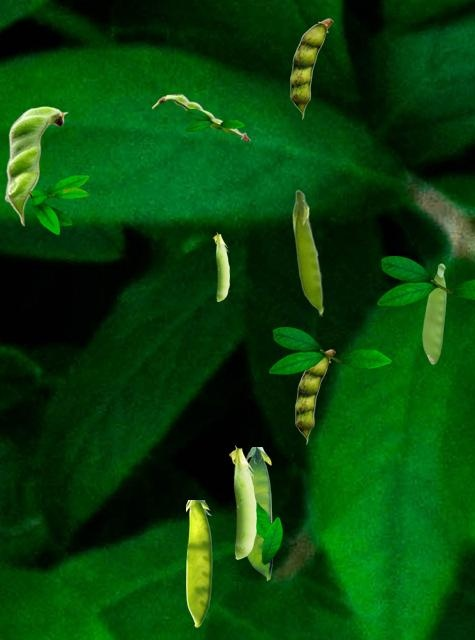pea: (4, 106, 67, 225), (152, 94, 249, 139), (290, 18, 332, 118), (292, 189, 323, 315), (295, 349, 334, 443), (246, 447, 271, 579), (186, 500, 211, 626), (229, 445, 255, 558), (422, 263, 445, 363), (213, 232, 228, 300)
